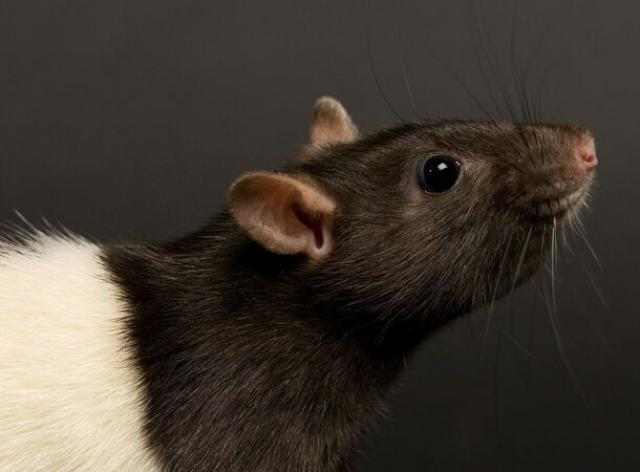rat: (104, 69, 620, 411)
